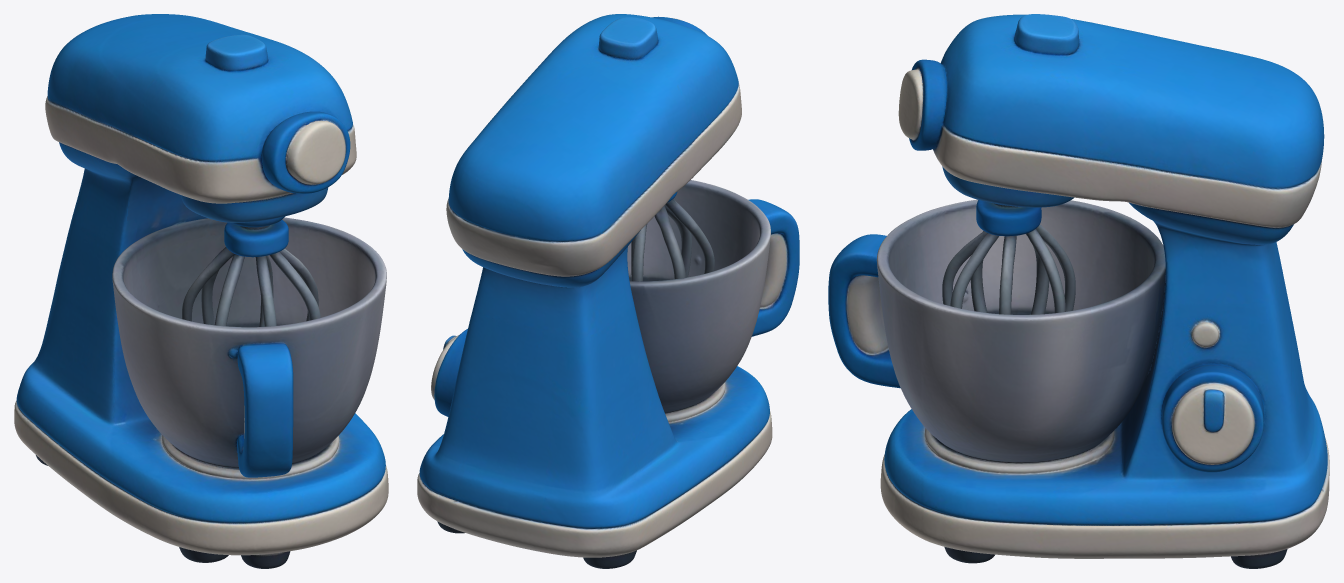
File: tripo_convert_5f97a33e-8a95-4a03-9fdb-2faa48bf6347.fbx
3 views of the same model, side by side, from view 1: azimuth 30°, elevation 25°; view 2: azimuth 150°, elevation 25°; view 3: azimuth 270°, elevation 25° (orthographic). The views are drawn at different scales.
Parts seen in each view (by area): view 1: tripo_node_5f97a33e; view 2: tripo_node_5f97a33e; view 3: tripo_node_5f97a33e.
Part boxes in pixels (box(x1,y1,x2,y2)): tripo_node_5f97a33e: box(14, 14, 388, 568); tripo_node_5f97a33e: box(417, 14, 799, 568); tripo_node_5f97a33e: box(828, 14, 1329, 568).
Size of the model in its own units: 0.55 by 1 by 0.9107.
